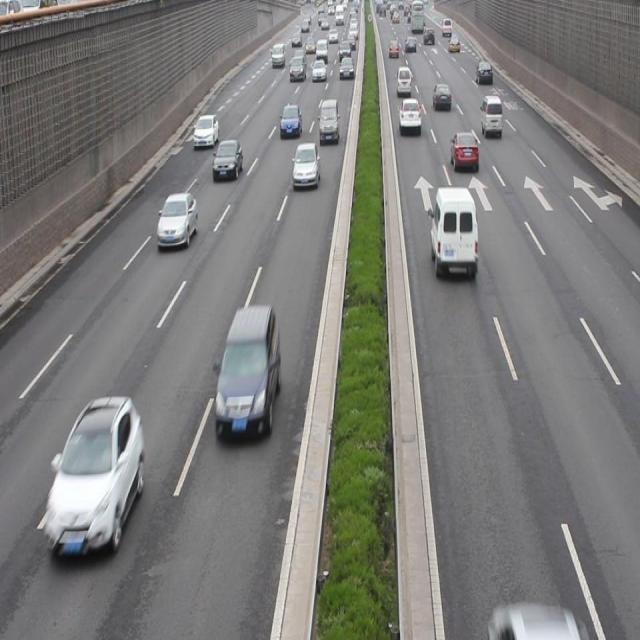car: (44, 398, 144, 560), (214, 303, 281, 442), (485, 604, 586, 640), (156, 188, 197, 249), (291, 143, 319, 189), (212, 140, 242, 178), (450, 133, 476, 168), (278, 103, 301, 139), (398, 99, 421, 134), (194, 115, 218, 148)
truck: (429, 184, 478, 280), (480, 96, 501, 139), (319, 100, 339, 142)
